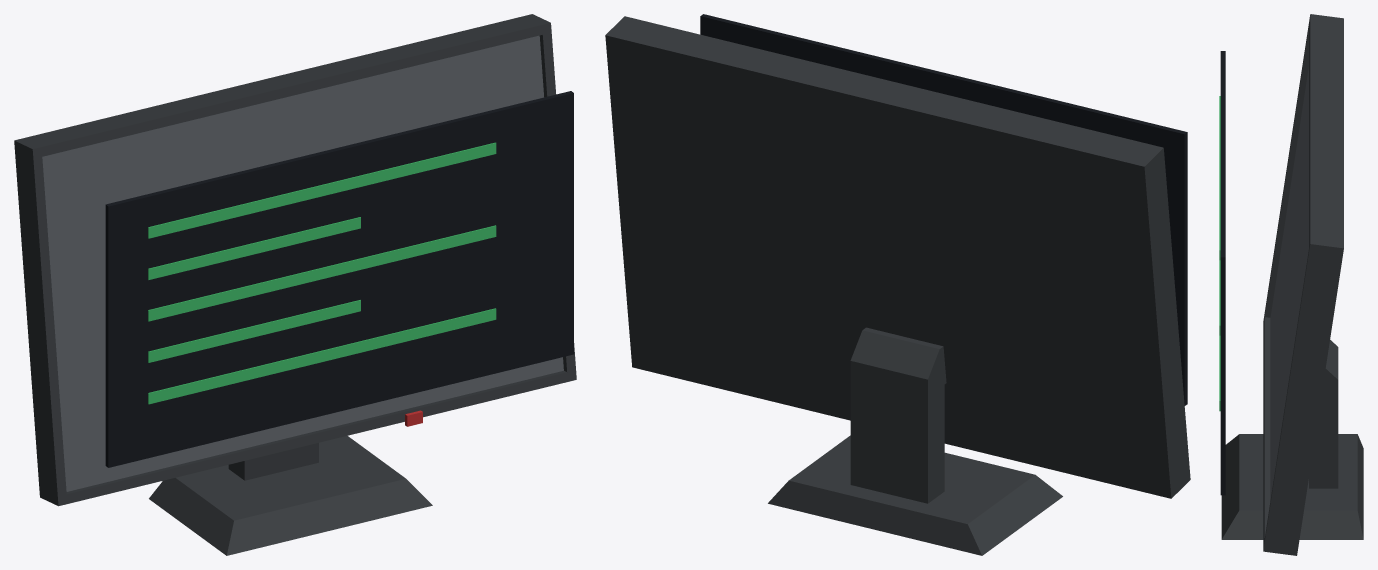
The model's file is computerScreen.glb.
3 views of the same model, side by side, from view 1: azimuth 30°, elevation 25°; view 2: azimuth 150°, elevation 25°; view 3: azimuth 270°, elevation 25° (orthographic). The views are drawn at different scales.
Parts seen in each view (by area): view 1: computerScreen(Clone); view 2: computerScreen(Clone); view 3: computerScreen(Clone).
Part boxes in pixels (<box>): computerScreen(Clone): <box>14,14,576,555</box>; computerScreen(Clone): <box>605,14,1190,555</box>; computerScreen(Clone): <box>1219,14,1363,555</box>.
Size of the model in its own units: 0.3927 by 0.2943 by 0.104.
